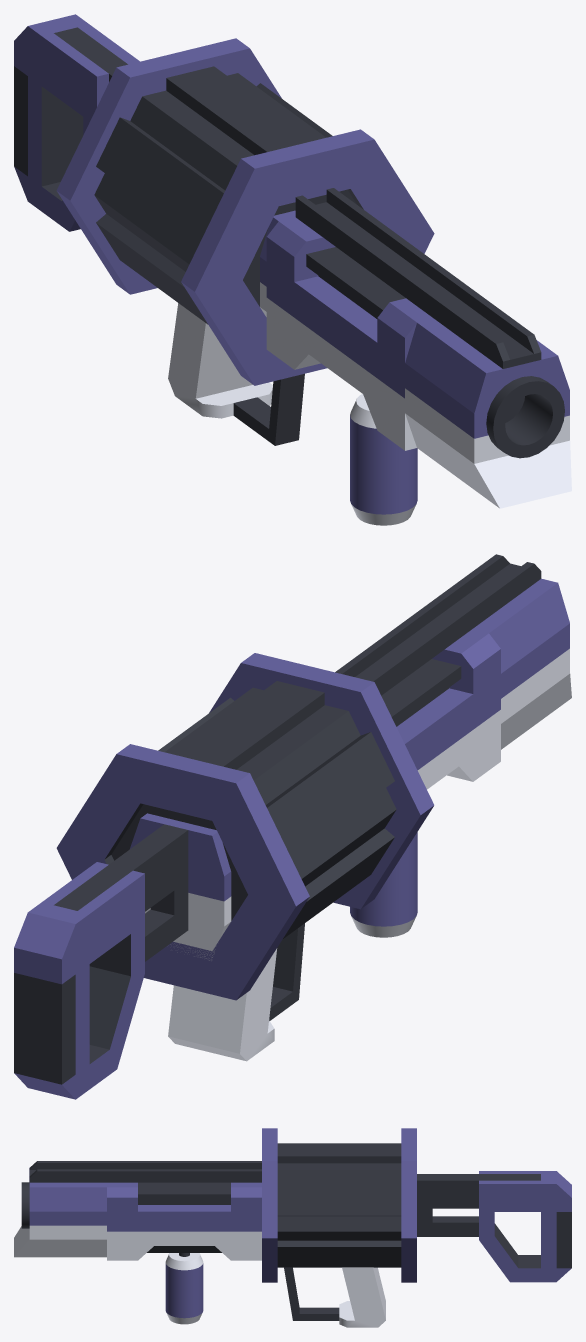
The model's file is minigun.glb.
3 views of the same model, one above another, from view 1: azimuth 30°, elevation 25°; view 2: azimuth 150°, elevation 25°; view 3: azimuth 270°, elevation 25° (orthographic). The views are drawn at different scales.
Parts seen in each view (by area): view 1: clipBarrel_large, mediumBlaster_barrelShort, blaster_centerDetail, stock_tactical, mediumBlaster_handleGuardSmall, detailRail, attachment_handle, detailRail_front; view 2: clipBarrel_large, stock_tactical, mediumBlaster_handleGuardSmall, blaster_centerDetail, mediumBlaster_barrelShort, detailRail, detailRail_front, attachment_handle; view 3: clipBarrel_large, stock_tactical, blaster_centerDetail, mediumBlaster_barrelShort, mediumBlaster_handleGuardSmall, detailRail, attachment_handle, detailRail_front.
Boxes of the visible parts, left/top/right/bottom form: clipBarrel_large: left=56, top=38, right=434, bottom=385; mediumBlaster_barrelShort: left=405, top=318, right=571, bottom=508; blaster_centerDetail: left=266, top=217, right=433, bottom=450; stock_tactical: left=14, top=14, right=139, bottom=231; mediumBlaster_handleGuardSmall: left=168, top=210, right=304, bottom=445; detailRail: left=295, top=188, right=471, bottom=318; attachment_handle: left=350, top=394, right=417, bottom=525; detailRail_front: left=434, top=289, right=541, bottom=368; clipBarrel_large: left=56, top=653, right=434, bottom=1000; stock_tactical: left=14, top=824, right=188, bottom=1099; mediumBlaster_handleGuardSmall: left=130, top=813, right=304, bottom=1061; blaster_centerDetail: left=381, top=629, right=500, bottom=789; mediumBlaster_barrelShort: left=472, top=578, right=571, bottom=749; detailRail: left=335, top=600, right=472, bottom=695; detailRail_front: left=434, top=554, right=541, bottom=628; attachment_handle: left=350, top=832, right=417, bottom=937; clipBarrel_large: left=262, top=1128, right=416, bottom=1282; stock_tactical: left=417, top=1171, right=571, bottom=1282; blaster_centerDetail: left=107, top=1182, right=261, bottom=1260; mediumBlaster_barrelShort: left=14, top=1168, right=106, bottom=1257; mediumBlaster_handleGuardSmall: left=284, top=1267, right=385, bottom=1327; detailRail: left=107, top=1161, right=261, bottom=1182; attachment_handle: left=147, top=1246, right=221, bottom=1324; detailRail_front: left=29, top=1161, right=106, bottom=1182.
Size of the model in its own units: 1 by 1.23 by 3.6.
